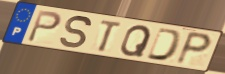D: (144, 27, 184, 63)
P: (173, 30, 214, 67), (25, 9, 63, 44)
Q: (119, 24, 154, 58)
S: (59, 15, 94, 50)
T: (97, 19, 125, 53)
